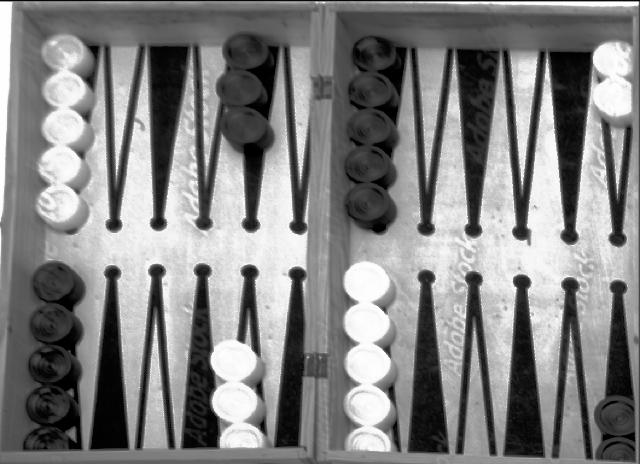bar: (303, 26, 341, 451)
board: (19, 19, 640, 462)
dark_p: (343, 181, 401, 230), (217, 107, 276, 155), (28, 260, 87, 307), (343, 142, 398, 189), (347, 31, 403, 77), (27, 301, 81, 348), (24, 384, 82, 427), (345, 106, 400, 151), (26, 345, 83, 386), (220, 31, 275, 73), (215, 71, 270, 111), (345, 70, 401, 107), (589, 393, 637, 435), (22, 426, 82, 452), (593, 436, 637, 461)
light_p: (342, 380, 401, 431), (340, 301, 398, 349), (39, 30, 95, 79), (343, 342, 399, 391), (35, 181, 87, 233), (209, 340, 265, 387), (339, 260, 397, 305), (210, 380, 266, 425), (38, 70, 95, 113), (37, 143, 87, 191), (40, 104, 91, 151), (591, 77, 638, 128), (590, 37, 638, 81), (217, 423, 270, 454), (344, 427, 402, 455)
